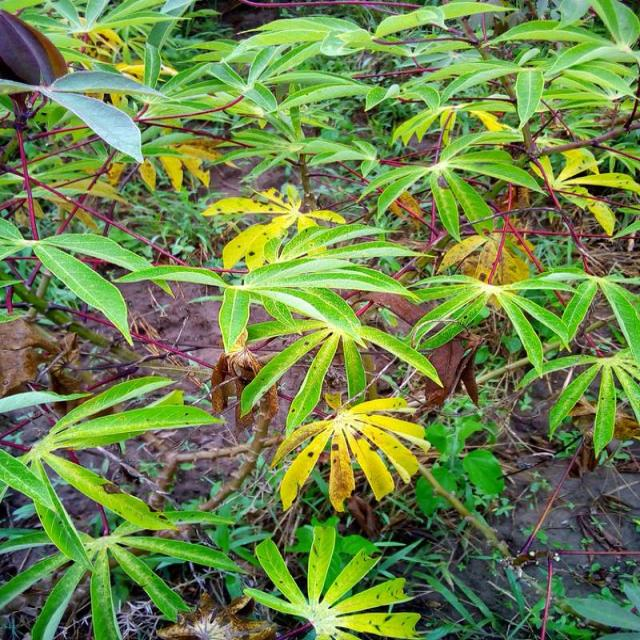cassava leaf: (243, 523, 422, 638), (273, 387, 431, 513)
